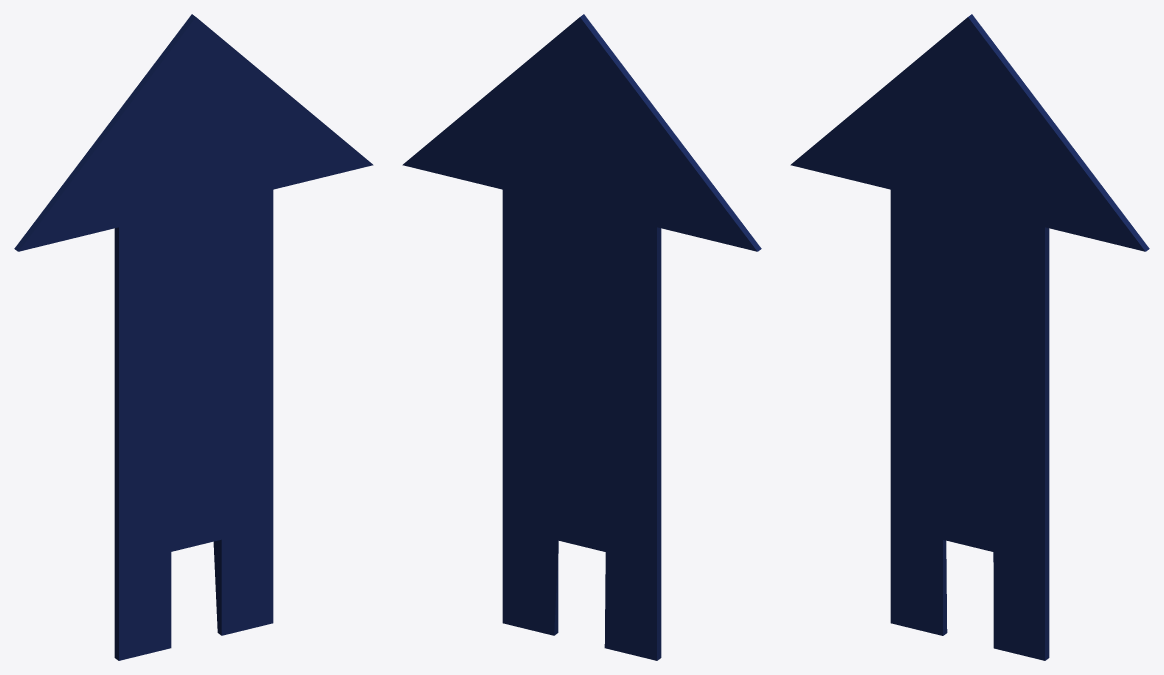
3 views of the same model, side by side, from view 1: azimuth 30°, elevation 25°; view 2: azimuth 150°, elevation 25°; view 3: azimuth 330°, elevation 25° (orthographic).
Parts seen in each view (by area): view 1: Cube.009; view 2: Cube.009; view 3: Cube.009.
Part boxes in pixels (bbox=[...]): Cube.009: bbox=[14, 14, 373, 660]; Cube.009: bbox=[402, 14, 761, 660]; Cube.009: bbox=[790, 14, 1149, 660].
Size of the model in its own units: 10.04 by 16.87 by 0.2.
